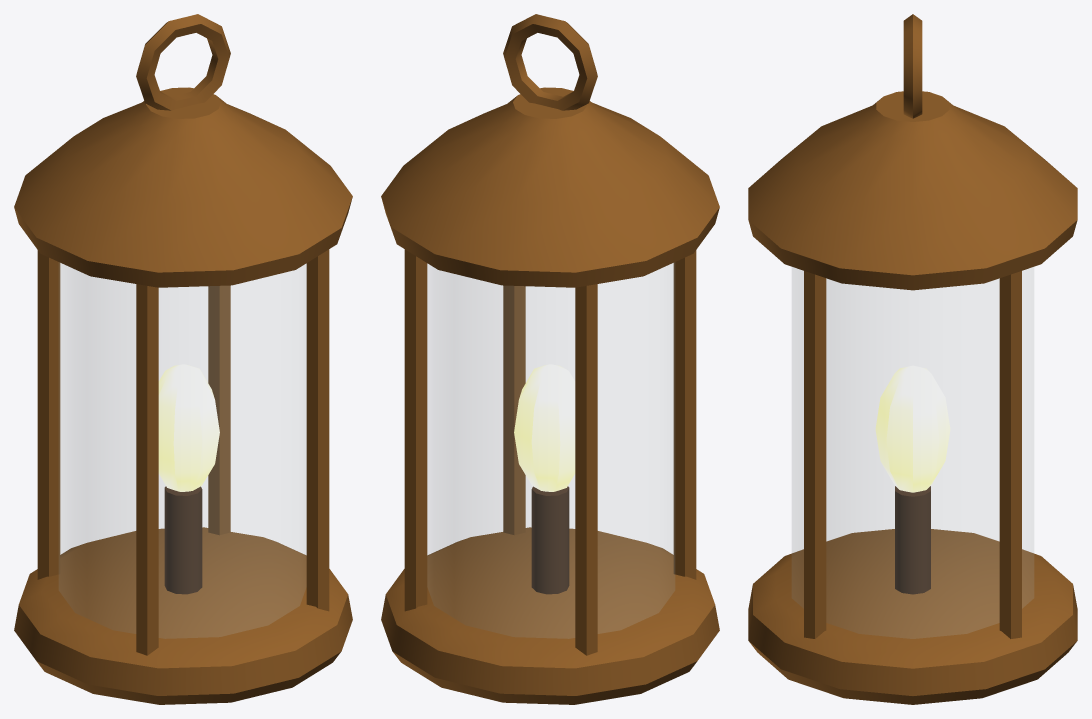
Rendered from arrival-lantern.lod1.glb.
3 views of the same model, side by side, from view 1: azimuth 30°, elevation 25°; view 2: azimuth 150°, elevation 25°; view 3: azimuth 270°, elevation 25° (orthographic).
Parts seen in each view (by area): view 1: arrival_lantern_Trim • brass and bronze, arrival_lantern_Glass • lantern, arrival_lantern_Lantern • warm emission; view 2: arrival_lantern_Trim • brass and bronze, arrival_lantern_Glass • lantern, arrival_lantern_Lantern • warm emission; view 3: arrival_lantern_Trim • brass and bronze, arrival_lantern_Glass • lantern, arrival_lantern_Lantern • warm emission.
Part boxes in pixels (box(x1,y1,x2,y2)): arrival_lantern_Trim • brass and bronze: box(14, 14, 352, 704); arrival_lantern_Glass • lantern: box(59, 263, 305, 638); arrival_lantern_Lantern • warm emission: box(158, 364, 219, 491); arrival_lantern_Trim • brass and bronze: box(381, 14, 719, 704); arrival_lantern_Glass • lantern: box(428, 263, 674, 638); arrival_lantern_Lantern • warm emission: box(514, 364, 575, 491); arrival_lantern_Trim • brass and bronze: box(748, 14, 1077, 704); arrival_lantern_Glass • lantern: box(792, 267, 1033, 638); arrival_lantern_Lantern • warm emission: box(875, 365, 950, 492).
Size of the model in its own units: 0.144 by 0.2901 by 0.1404.
3 materials, 1 textured.
